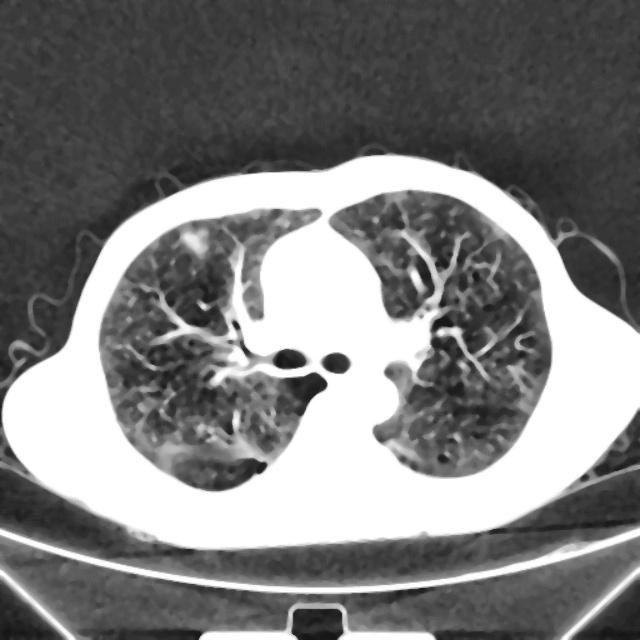covid: (1, 152, 638, 550)
